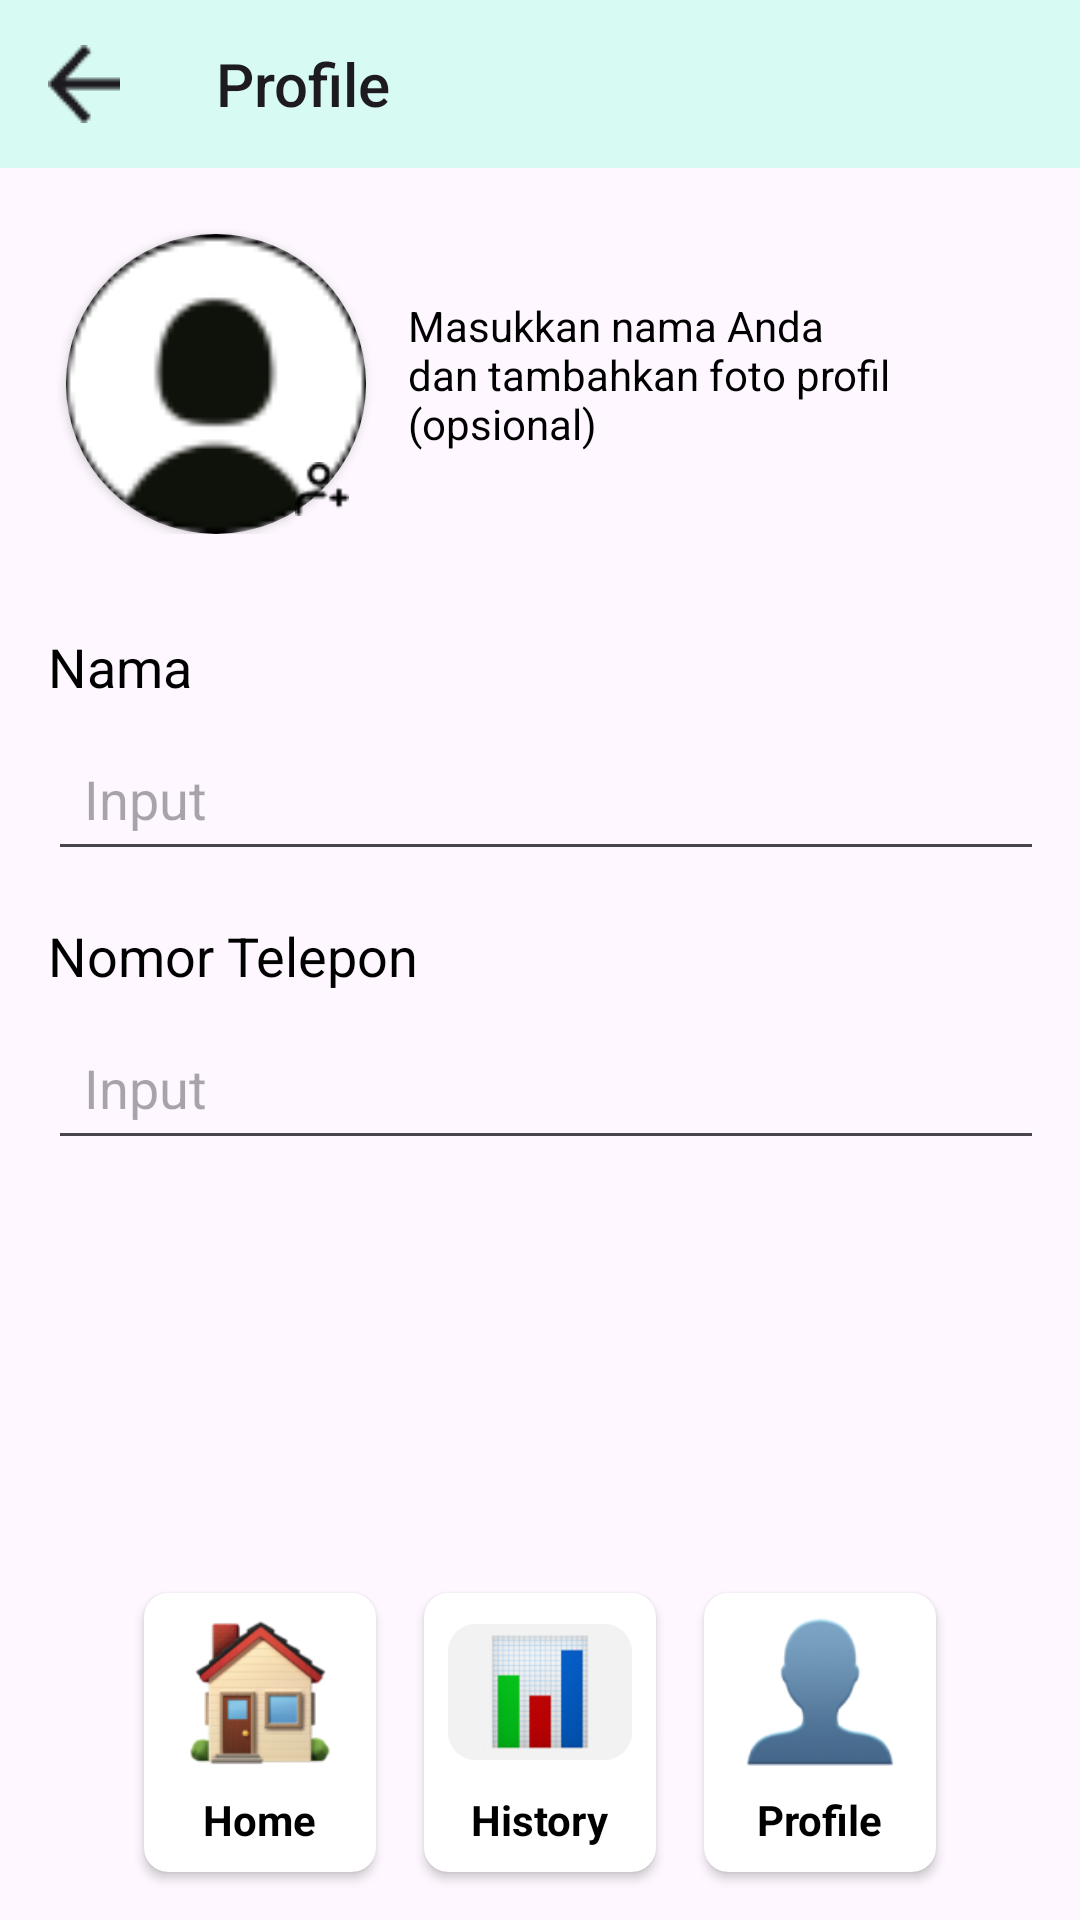

Icon bounding boxes for this 1080px x 1920px phone screenshot, format BBox(x1, y1, x2, y2):
metrics: BBox(491, 1635, 589, 1749)
